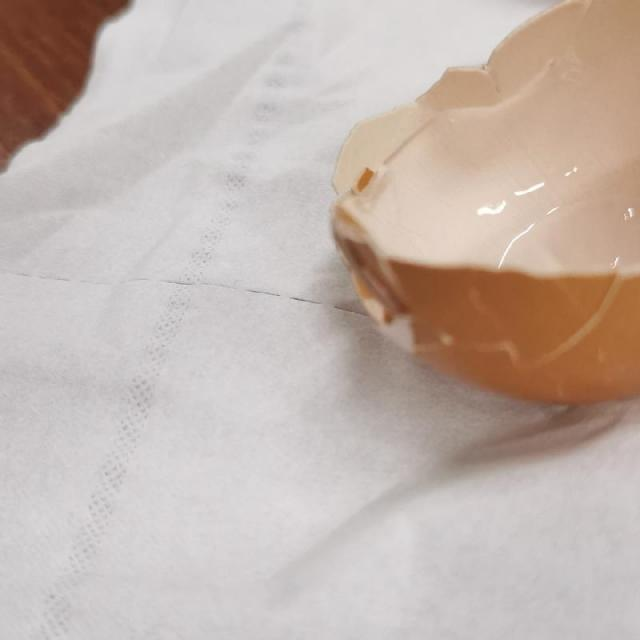egg shell: (334, 14, 640, 409)
